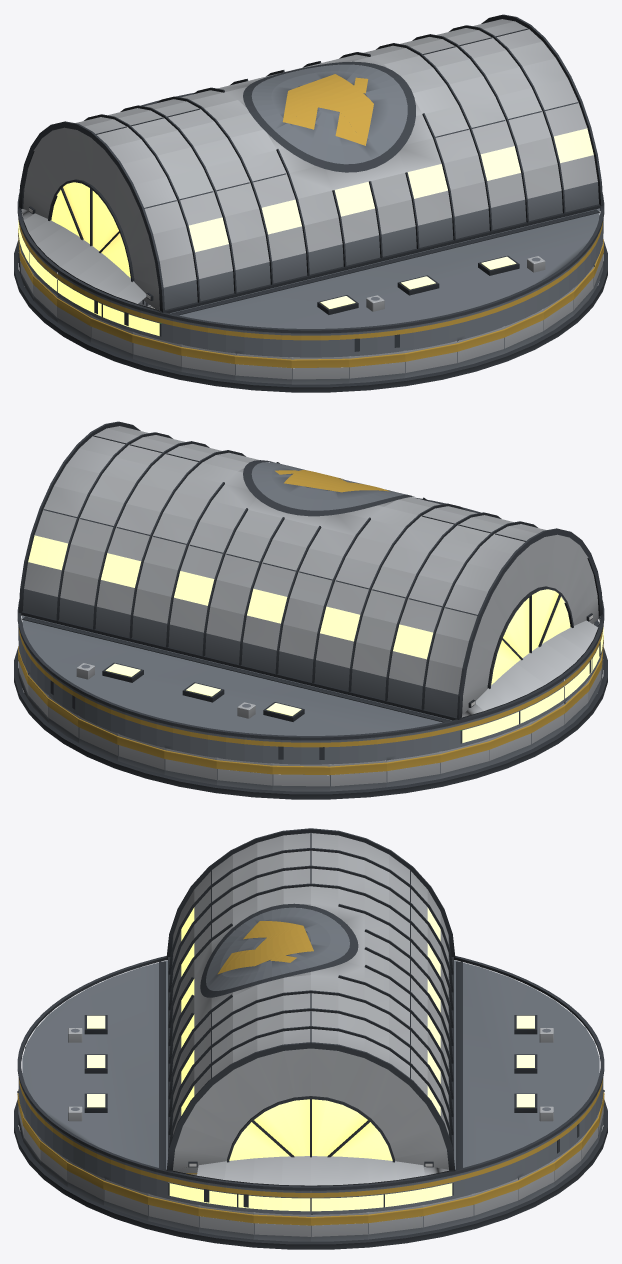
File: residence_tube_xl_far.glb
3 views of the same model, one above another, from view 1: azimuth 30°, elevation 25°; view 2: azimuth 150°, elevation 25°; view 3: azimuth 270°, elevation 25° (orthographic).
Visible parts, largest first — view 1: Roof, Base; view 2: Roof, Base; view 3: Roof, Base.
Boxes of the visible parts, x1,y1,x2,y2 form: Roof: [17, 14, 604, 357]; Base: [14, 215, 607, 392]; Roof: [17, 421, 604, 764]; Base: [14, 620, 607, 799]; Roof: [17, 828, 604, 1214]; Base: [14, 1076, 607, 1249].
Size of the model in its own units: 25.74 by 9.02 by 25.74.
